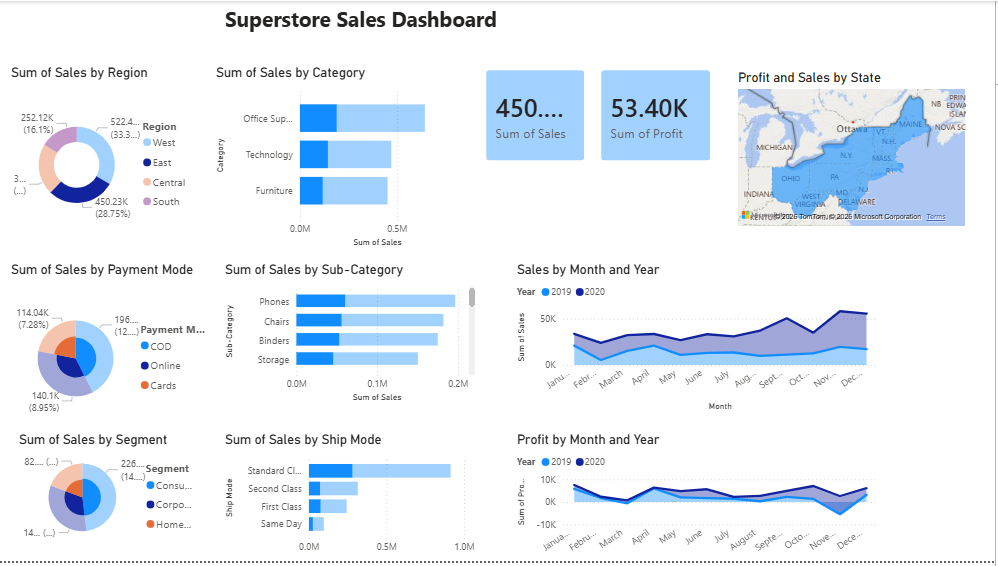

Layout of this report page (visuals, bound fields, positions):
{"tool":"powerbi","page":{"name":"Page 1","canvas":[1280,720],"ordinal":0},"visuals":[{"type":"donutChart","title":"Sum of Sales by Region","fields":{"Category":["SuperStore_Sales_Dataset.Region"],"Y":["Sum(SuperStore_Sales_Dataset.Sales)"]},"box":[10.3,82.2,244.2,237.8],"z":0},{"type":"pieChart","fields":{"Y":["Sum(SuperStore_Sales_Dataset.Sales)"],"Category":["SuperStore_Sales_Dataset.Payment Mode"]},"box":[10.3,335.4,263.5,228.8],"z":1000},{"type":"pieChart","fields":{"Y":["Sum(SuperStore_Sales_Dataset.Sales)"],"Category":["SuperStore_Sales_Dataset.Segment"]},"box":[20.6,553.9,244.2,149.1],"z":2000},{"type":"textbox","box":[285.3,0,404.8,52.7],"z":3000},{"type":"clusteredBarChart","fields":{"Y":["Sum(SuperStore_Sales_Dataset.Sales)"],"Category":["SuperStore_Sales_Dataset.Category"]},"box":[273.7,82.2,331.6,237.8],"z":4000},{"type":"clusteredBarChart","fields":{"Y":["Sum(SuperStore_Sales_Dataset.Sales)"],"Category":["SuperStore_Sales_Dataset.Sub-Category"]},"box":[285.3,335.4,331.6,183.8],"z":5000},{"type":"clusteredBarChart","fields":{"Y":["Sum(SuperStore_Sales_Dataset.Sales)"],"Category":["SuperStore_Sales_Dataset.Ship Mode"]},"box":[285.3,553.9,331.6,165.8],"z":6000},{"type":"filledMap","title":"Profit and Sales by State","fields":{"Category":["SuperStore_Sales_Dataset.State"]},"box":[944.6,88.7,302,205.6],"z":7000},{"type":"cardVisual","fields":{"Data":["Sum(SuperStore_Sales_Dataset.Sales)"]},"box":[609.2,72,160.6,150.4],"z":8000},{"type":"cardVisual","fields":{"Data":["Sum(SuperStore_Sales_Dataset.Profit)"]},"box":[756.9,72,174.8,150.4],"z":9000},{"type":"stackedAreaChart","title":"Sales by Month and Year","fields":{"Category":["SuperStore_Sales_Dataset.Order Date.Variation.Date Hierarchy.Month"],"Y":["Sum(SuperStore_Sales_Dataset.Sales)"],"Series":["SuperStore_Sales_Dataset.Order Date.Variation.Date Hierarchy.Year"]},"box":[660.6,335.4,472.9,195.3],"z":10000},{"type":"stackedAreaChart","title":"Profit by Month and Year","fields":{"Y":["Sum(SuperStore_Sales_Dataset.Profit)"],"Category":["SuperStore_Sales_Dataset.Order Date.Variation.Date Hierarchy.Month"],"Series":["SuperStore_Sales_Dataset.Order Date.Variation.Date Hierarchy.Year"]},"box":[661,554,473,166],"z":11000}]}

Visuals, with their boxes in screenshot pixels (x1, y1, x2, y2), scaled from the page's 1280x720 canvas onto the 998x566 screenshot:
"Sum of Sales by Region" donutChart: bbox(8, 65, 198, 252)
pieChart - Sum(SuperStore_Sales_Dataset.Sales) x SuperStore_Sales_Dataset.Payment Mode: bbox(8, 264, 213, 444)
pieChart - Sum(SuperStore_Sales_Dataset.Sales) x SuperStore_Sales_Dataset.Segment: bbox(16, 435, 206, 553)
textbox: bbox(222, 0, 538, 41)
clusteredBarChart - Sum(SuperStore_Sales_Dataset.Sales) x SuperStore_Sales_Dataset.Category: bbox(213, 65, 472, 252)
clusteredBarChart - Sum(SuperStore_Sales_Dataset.Sales) x SuperStore_Sales_Dataset.Sub-Category: bbox(222, 264, 481, 408)
clusteredBarChart - Sum(SuperStore_Sales_Dataset.Sales) x SuperStore_Sales_Dataset.Ship Mode: bbox(222, 435, 481, 565)
"Profit and Sales by State" filledMap: bbox(736, 70, 972, 231)
cardVisual - Sum(SuperStore_Sales_Dataset.Sales): bbox(475, 57, 600, 175)
cardVisual - Sum(SuperStore_Sales_Dataset.Profit): bbox(590, 57, 726, 175)
"Sales by Month and Year" stackedAreaChart: bbox(515, 264, 884, 417)
"Profit by Month and Year" stackedAreaChart: bbox(515, 436, 884, 565)
